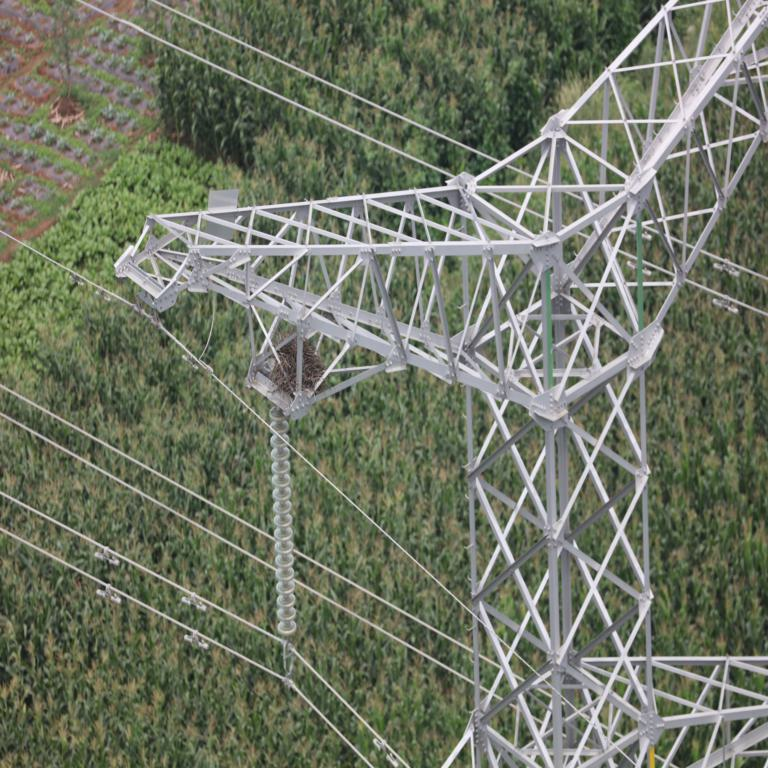nest: (268, 333, 327, 391)
